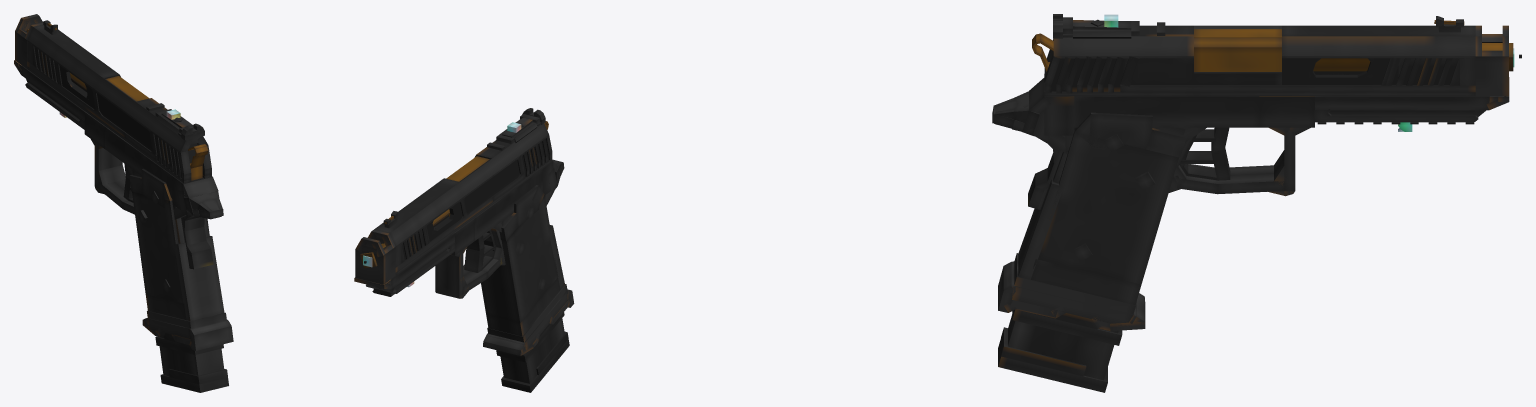
File: a1_tti.fbx
3 renders of one model, left to right at view 1: azimuth 30°, elevation 25°; view 2: azimuth 150°, elevation 25°; view 3: azimuth 270°, elevation 25°, orthographic. The views are drawn at different scales.
Visible parts, largest first — view 1: gun, slide, bone14, magazine4, bone27, bone31, rearsight1, bone30, bone16, bone29, bone24, thingonslide (+1 smaller); view 2: gun, slide, bone14, magazine4, thingonslide, bone27, rearsight1, bone30, bone29, bone24, bone16; view 3: gun, slide, bone14, thingonslide, magazine4, bone16, bone27, bone30, rearsight1, bone24, bone31.
Part boxes in pixels (bbox=[...]): gun: bbox=[14, 14, 224, 321]; slide: bbox=[27, 24, 211, 183]; bone14: bbox=[142, 310, 233, 350]; magazine4: bbox=[159, 346, 224, 376]; bone27: bbox=[160, 369, 228, 392]; bone31: bbox=[183, 177, 222, 211]; rearsight1: bbox=[146, 103, 204, 140]; bone30: bbox=[33, 46, 152, 152]; bone16: bbox=[154, 135, 211, 177]; bone29: bbox=[149, 131, 180, 171]; bone24: bbox=[155, 333, 223, 354]; thingonslide: bbox=[98, 76, 149, 124]; gun: bbox=[354, 161, 564, 336]; slide: bbox=[374, 123, 552, 275]; bone14: bbox=[483, 284, 574, 355]; magazine4: bbox=[500, 318, 564, 383]; thingonslide: bbox=[446, 156, 496, 216]; bone27: bbox=[501, 331, 569, 392]; rearsight1: bbox=[487, 108, 545, 150]; bone30: bbox=[401, 159, 520, 263]; bone29: bbox=[517, 139, 547, 175]; bone24: bbox=[496, 312, 564, 362]; bone16: bbox=[522, 135, 552, 176]; gun: bbox=[1018, 25, 1513, 304]; slide: bbox=[1044, 25, 1475, 96]; bone14: bbox=[998, 253, 1145, 331]; thingonslide: bbox=[1194, 29, 1281, 71]; magazine4: bbox=[1008, 314, 1117, 380]; bone16: bbox=[1044, 39, 1138, 91]; bone27: bbox=[998, 327, 1107, 392]; bone30: bbox=[1309, 58, 1463, 85]; rearsight1: bbox=[1053, 14, 1165, 38]; bone24: bbox=[1012, 309, 1122, 345]; bone31: bbox=[994, 78, 1051, 123].
Bounding box in the file's own units: 27.5 × 177 × 363.
Materials: 1 (1 with a texture image).
